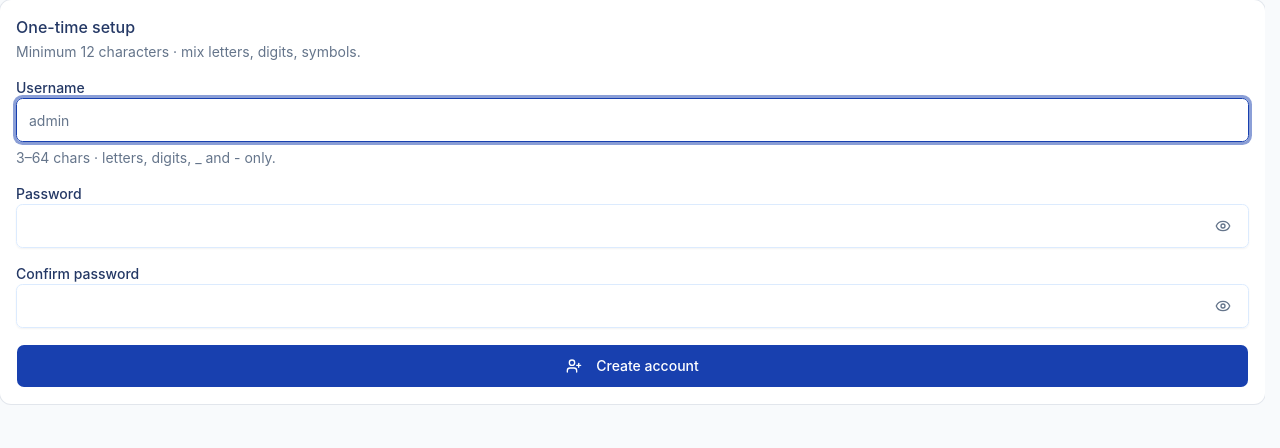
Test: SetupForm — AC-6 › rejects username < 3 chars locally (no fetch)
The width and height of the screenshot is (1280, 448).
Type "ab" into the field labelled "Username".
click(632, 120); type("ab")  # box [16, 98, 1249, 142]
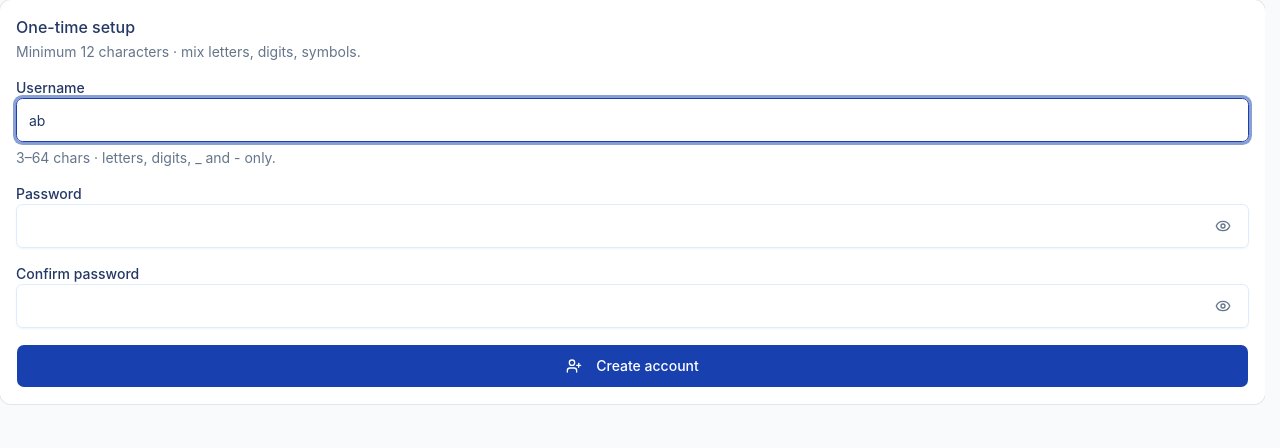
Type "complex-pass-12c!" into the password field labelled "Password".
click(632, 226); type("complex-pass-12c!")  # box [16, 204, 1249, 248]
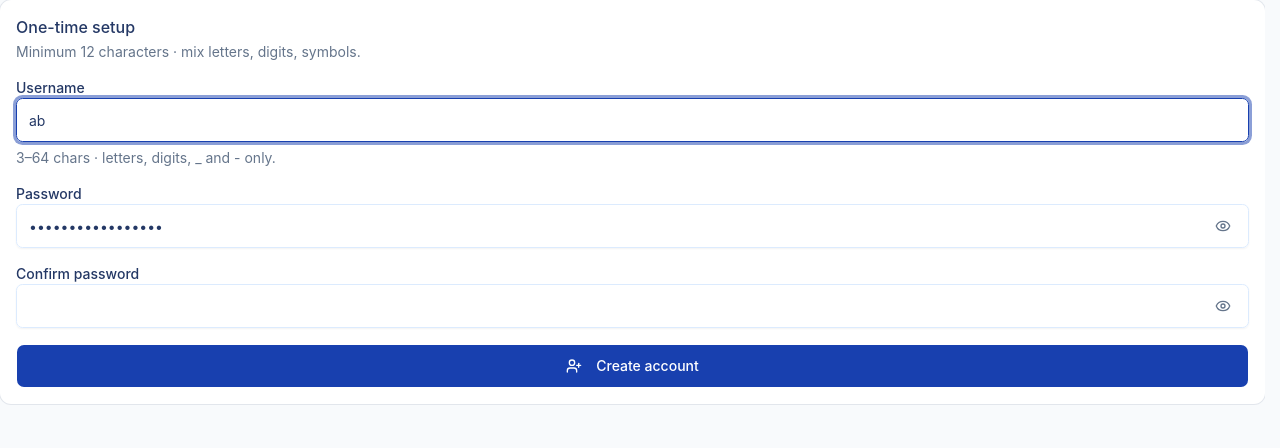
Type "complex-pass-12c!" into the password field labelled "Confirm password".
click(632, 306); type("complex-pass-12c!")  # box [16, 284, 1249, 328]
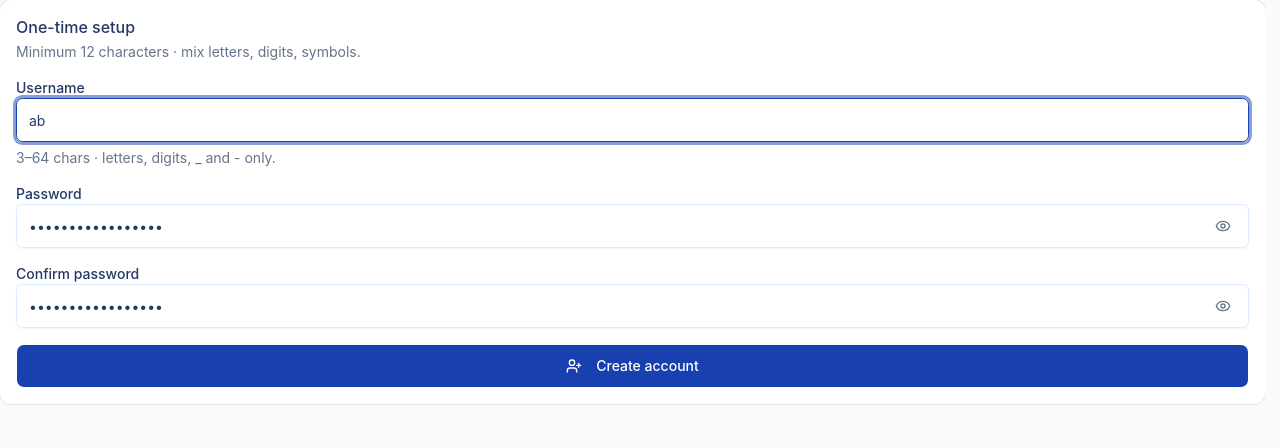
Click the button "Create account".
click(632, 366)  # box [16, 344, 1249, 388]
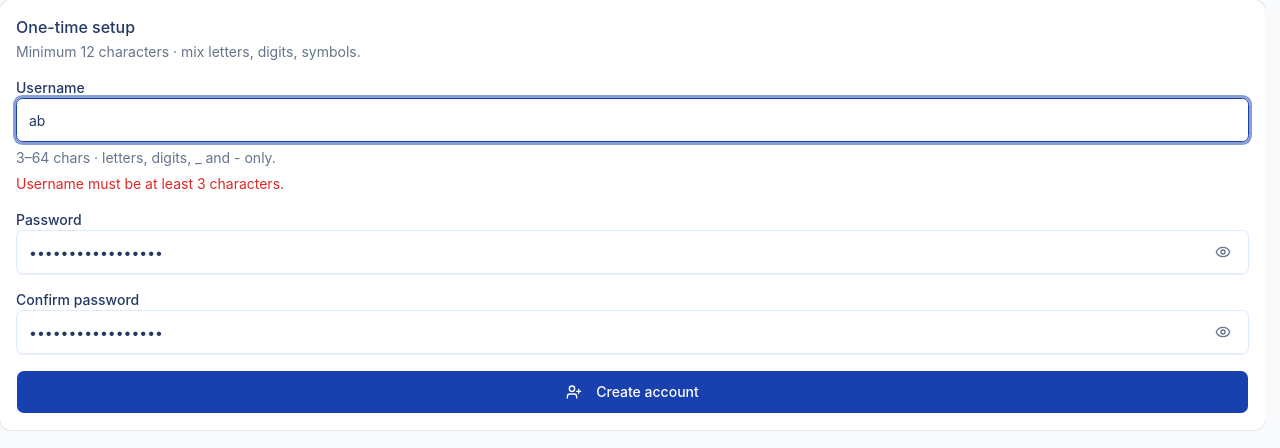
Expected: the text "Username must be at least 3 characters." is shown, [16, 175, 284, 192]
